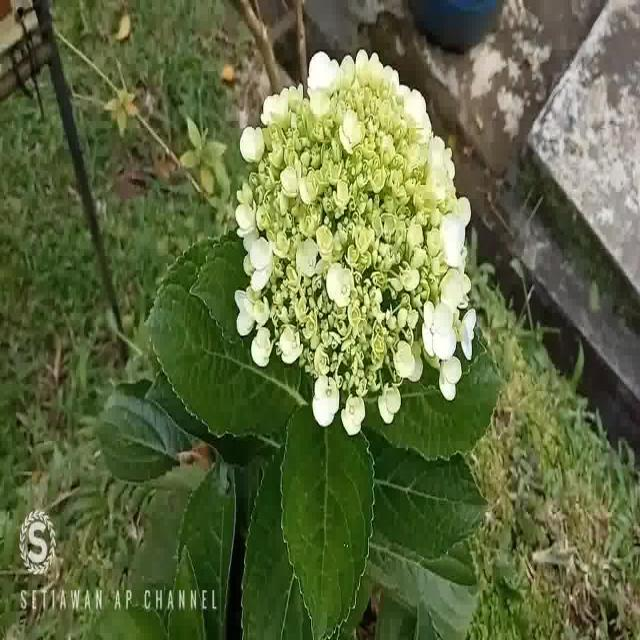Flower: (238, 44, 476, 432)
